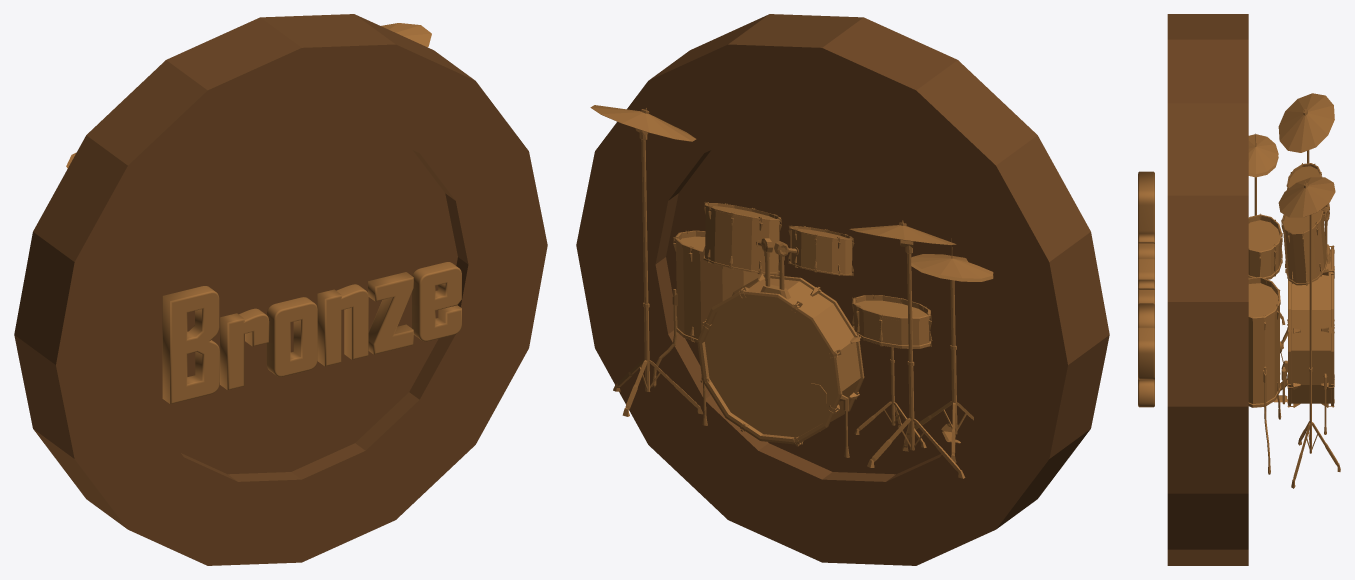
Rendered from Bronze_Drum.glb.
The picture shows the model from 3 angles, left to right: view 1: azimuth 30°, elevation 25°; view 2: azimuth 150°, elevation 25°; view 3: azimuth 270°, elevation 25°; orthographic projection. The views are drawn at different scales.
Visible parts, largest first — view 1: Coin.001, Bronze Text, Drums.001; view 2: Coin.001, Drums.001; view 3: Coin.001, Drums.001, Bronze Text.
Part boxes in pixels (left/top/right/bottom): Coin.001: left=14, top=14, right=547, bottom=565; Bronze Text: left=162, top=262, right=461, bottom=403; Drums.001: left=66, top=23, right=431, bottom=168; Coin.001: left=576, top=14, right=1109, bottom=565; Drums.001: left=590, top=105, right=993, bottom=478; Coin.001: left=1167, top=14, right=1248, bottom=565; Drums.001: left=1248, top=93, right=1340, bottom=488; Bronze Text: left=1138, top=171, right=1154, bottom=407.
Size of the model in its own units: 0.987 by 0.987 by 0.3621.
